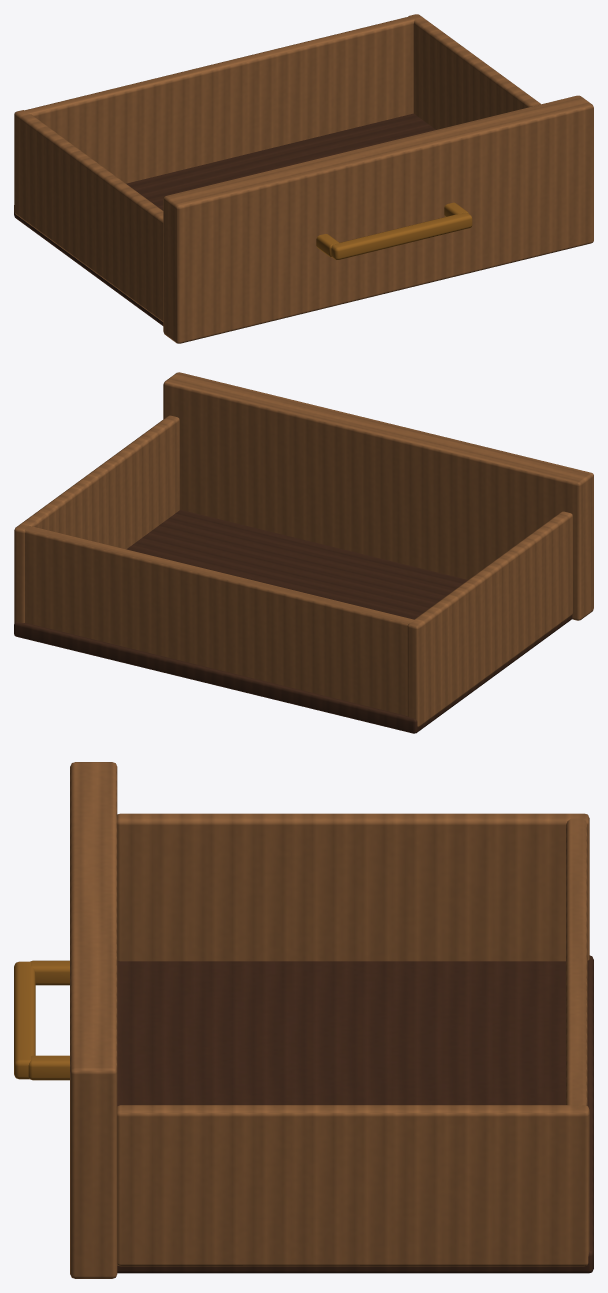
File: drawer_slide.glb
3 views of the same model, one above another, from view 1: azimuth 30°, elevation 25°; view 2: azimuth 150°, elevation 25°; view 3: azimuth 270°, elevation 25° (orthographic). The views are drawn at different scales.
Visible parts, largest first — view 1: V2_drawer_slide_oak, V2_drawer_slide_walnut, V2_drawer_slide_brass; view 2: V2_drawer_slide_oak, V2_drawer_slide_walnut; view 3: V2_drawer_slide_oak, V2_drawer_slide_walnut, V2_drawer_slide_brass.
Part boxes in pixels (<box>): V2_drawer_slide_oak: <box>14,14,593,343</box>; V2_drawer_slide_walnut: <box>14,113,435,325</box>; V2_drawer_slide_brass: <box>316,202,472,259</box>; V2_drawer_slide_oak: <box>14,372,593,727</box>; V2_drawer_slide_walnut: <box>14,509,572,733</box>; V2_drawer_slide_oak: <box>70,762,589,1278</box>; V2_drawer_slide_walnut: <box>117,955,593,1273</box>; V2_drawer_slide_brass: <box>14,960,69,1080</box>.
Size of the model in its own units: 0.85 by 0.27 by 0.6725.
3 materials, 2 textured.
